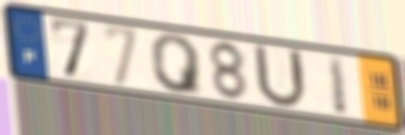7: (48, 15, 92, 81), (103, 22, 143, 89)
8: (207, 39, 252, 102)
I: (325, 53, 351, 118)
Q: (147, 33, 206, 98)
U: (251, 41, 310, 112)
